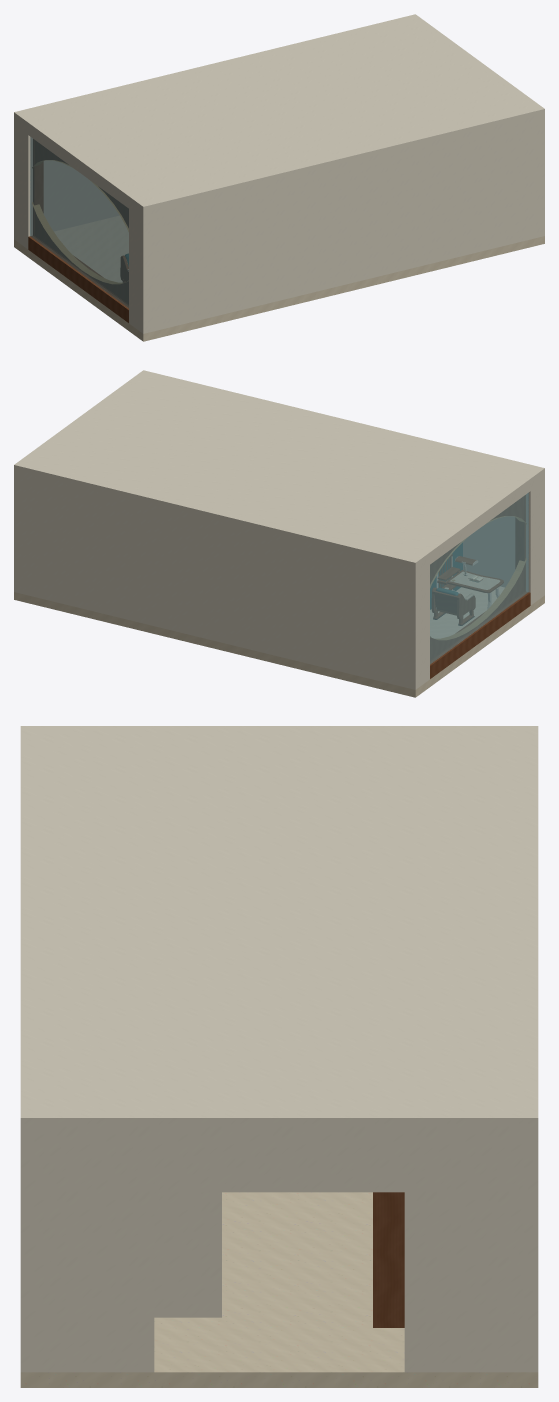
File: QuietGroveBank_397_r001.glb
3 renders of one model, top to bottom at view 1: azimuth 30°, elevation 25°; view 2: azimuth 150°, elevation 25°; view 3: azimuth 270°, elevation 25°, orthographic. The views are drawn at different scales.
Parts seen in each view (by area): view 1: QG397_Ceiling, QG397_SouthSide, QGB397_PrivateCourtGlass, QG397_RoomFloor, QG397_NorthSide, QGB397_CourtSouthPier, QGB397_CourtNorthPier, QGB397_CourtSill, QG397_OvalWindowReveal, QG397_OvalDepthReturn, QGB397_CourtHeader, QGB397_DeepReveal_-264.2; view 2: QG397_Ceiling, QG397_NorthSide, QGB397_PrivateCourtGlass, QG397_RoomFloor, QG397_SouthSide, QGB397_CourtNorthPier, QGB397_CourtSouthPier, QGB397_CourtSill, QG397_OvalWindowReveal, QG397_OvalDepthReturn, QGB397_CourtHeader, QGB397_DeepReveal_-258.59999999999997 (+2 smaller); view 3: QG397_Ceiling, QG397_RoomFloor, QG397_EntryShoulderNorth, QG397_EntryShoulderSouth, QG397_EntryHeader, QG397_WashEntrySide, QG397_EntryPrivacyDogleg, QG397_NorthSide, QG397_SouthSide.
Part boxes in pixels (bbox=[...]): QG397_Ceiling: bbox=[14, 14, 544, 211]; QG397_SouthSide: bbox=[141, 114, 544, 333]; QGB397_PrivateCourtGlass: bbox=[30, 137, 128, 308]; QG397_RoomFloor: bbox=[14, 216, 544, 341]; QG397_NorthSide: bbox=[14, 118, 119, 240]; QGB397_CourtSouthPier: bbox=[129, 202, 150, 333]; QGB397_CourtNorthPier: bbox=[14, 119, 32, 249]; QGB397_CourtSill: bbox=[28, 236, 128, 322]; QG397_OvalWindowReveal: bbox=[35, 140, 128, 304]; QG397_OvalDepthReturn: bbox=[32, 160, 128, 283]; QGB397_CourtHeader: bbox=[28, 128, 128, 208]; QGB397_DeepReveal_-264.2: bbox=[33, 139, 43, 235]; QG397_Ceiling: bbox=[14, 370, 544, 567]; QG397_NorthSide: bbox=[14, 470, 417, 689]; QGB397_PrivateCourtGlass: bbox=[430, 492, 528, 664]; QG397_RoomFloor: bbox=[14, 586, 544, 697]; QG397_SouthSide: bbox=[463, 474, 544, 594]; QGB397_CourtNorthPier: bbox=[408, 558, 429, 689]; QGB397_CourtSouthPier: bbox=[526, 474, 544, 605]; QGB397_CourtSill: bbox=[430, 592, 530, 678]; QG397_OvalWindowReveal: bbox=[430, 496, 523, 660]; QG397_OvalDepthReturn: bbox=[430, 516, 526, 639]; QGB397_CourtHeader: bbox=[430, 484, 530, 564]; QGB397_DeepReveal_-258.59999999999997: bbox=[515, 495, 525, 591]; QG397_Ceiling: bbox=[20, 726, 538, 1128]; QG397_RoomFloor: bbox=[20, 1192, 538, 1387]; QG397_EntryShoulderNorth: bbox=[404, 1128, 529, 1372]; QG397_EntryShoulderSouth: bbox=[29, 1128, 154, 1372]; QG397_EntryHeader: bbox=[150, 1128, 408, 1192]; QG397_WashEntrySide: bbox=[154, 1192, 221, 1317]; QG397_EntryPrivacyDogleg: bbox=[373, 1192, 404, 1327]; QG397_NorthSide: bbox=[529, 1128, 538, 1372]; QG397_SouthSide: bbox=[20, 1128, 29, 1372].
Bounding box in the file's own units: 12.9 × 4.14 × 7.2.
Materials: 67 (43 with a texture image).
